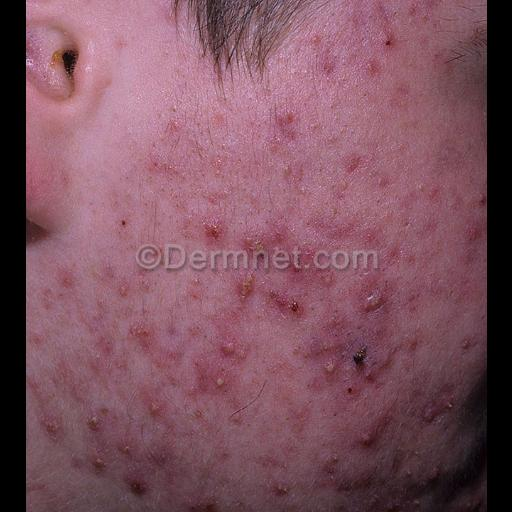Skin_Lesion: (104, 126, 442, 452), (376, 234, 482, 402), (45, 104, 157, 230), (323, 51, 443, 155), (28, 259, 118, 373), (116, 53, 214, 151), (292, 320, 392, 416), (384, 177, 472, 251), (324, 2, 408, 66), (147, 138, 219, 196), (249, 219, 315, 271), (184, 341, 242, 399), (312, 201, 374, 247), (27, 156, 63, 202), (200, 217, 242, 251), (403, 0, 447, 30), (352, 272, 386, 308), (312, 48, 342, 80), (87, 330, 115, 364), (422, 395, 452, 423), (268, 288, 300, 314), (272, 108, 298, 138), (464, 214, 484, 244), (234, 273, 256, 299), (390, 82, 412, 104), (208, 150, 230, 172), (124, 474, 146, 496), (358, 424, 378, 446), (58, 270, 78, 290), (128, 322, 150, 340), (334, 476, 356, 494), (26, 34, 40, 60), (344, 156, 362, 176), (163, 119, 181, 139), (26, 480, 48, 496), (365, 58, 383, 76), (146, 400, 164, 418), (360, 365, 378, 383), (209, 112, 225, 130), (219, 339, 237, 355), (190, 498, 214, 510), (162, 7, 178, 25), (246, 239, 264, 255), (49, 48, 63, 68), (90, 455, 106, 471), (272, 482, 290, 496), (351, 348, 365, 366), (426, 186, 440, 202), (308, 33, 322, 49), (280, 164, 294, 180), (424, 465, 438, 481), (44, 420, 58, 434), (116, 284, 128, 298), (86, 414, 98, 428), (114, 38, 126, 50), (230, 412, 242, 424), (460, 338, 470, 350), (324, 361, 334, 371), (365, 294, 375, 304), (478, 194, 486, 206), (382, 38, 392, 46), (190, 276, 200, 284), (210, 226, 218, 236), (194, 409, 202, 417), (330, 453, 338, 461), (412, 498, 420, 506), (122, 444, 130, 452), (215, 377, 223, 385), (346, 386, 352, 394), (406, 469, 412, 477), (120, 218, 126, 226), (402, 221, 410, 227), (416, 183, 422, 191), (328, 474, 334, 482), (446, 402, 452, 408)
